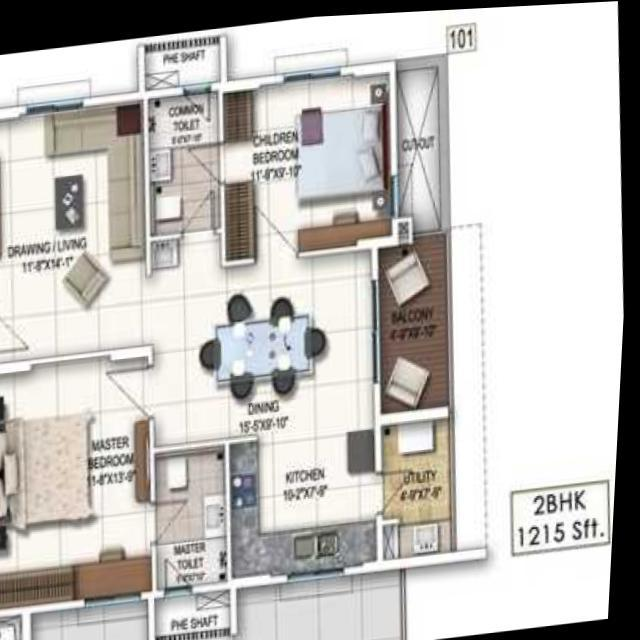Balcony-Sitout: (381, 234, 455, 413)
Bedroom with Toilet: (0, 343, 236, 606), (145, 63, 399, 258)
Dining: (198, 277, 343, 404)
Enterance-Foyer: (0, 278, 35, 350)
Kitchen: (234, 420, 386, 578)
Living: (0, 94, 153, 357)
Toilet: (150, 86, 223, 231), (160, 441, 233, 585)
Utility: (383, 411, 459, 559)
